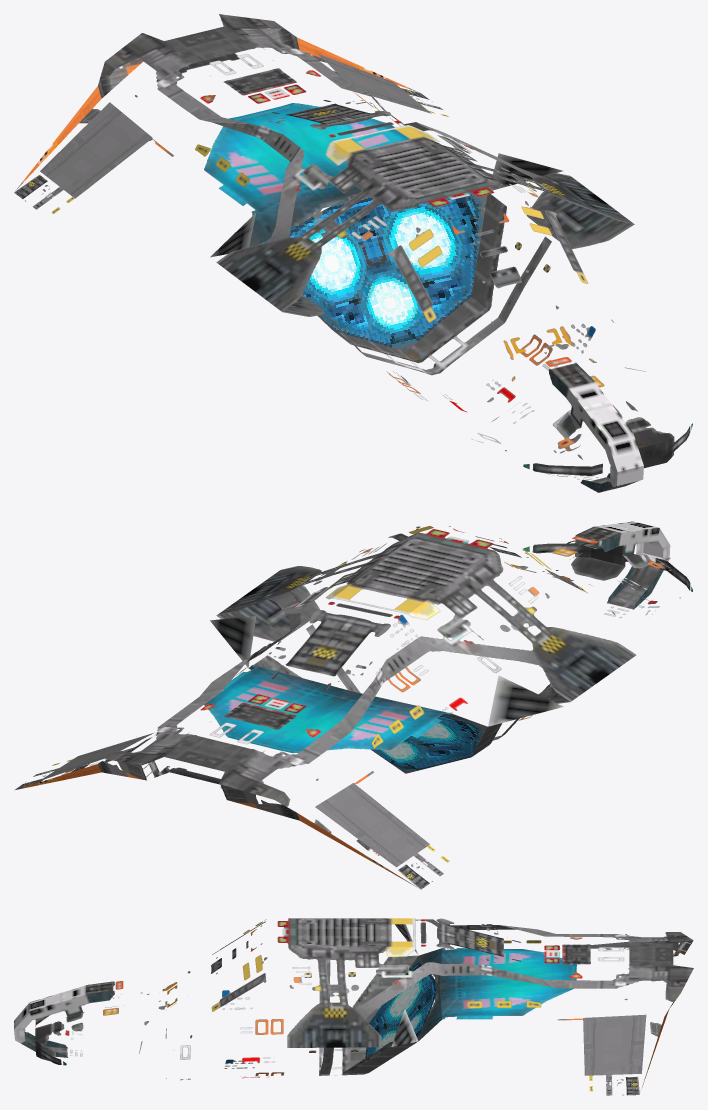
The picture shows the model from 3 angles, top to bottom: view 1: azimuth 30°, elevation 25°; view 2: azimuth 150°, elevation 25°; view 3: azimuth 270°, elevation 25°; orthographic projection. The views are drawn at different scales.
Visible parts, largest first — view 1: frontUV, burnerUV, Badge0_MAT; view 2: frontUV, Badge0_MAT, burnerUV; view 3: frontUV, Badge0_MAT, burnerUV.
Part boxes in pixels (x1,y1,x2,y2): frontUV: (14, 14, 692, 492); burnerUV: (258, 192, 487, 351); Badge0_MAT: (40, 54, 431, 198); frontUV: (14, 521, 692, 889); Badge0_MAT: (40, 732, 429, 867); burnerUV: (249, 668, 487, 773); frontUV: (14, 918, 693, 1095); Badge0_MAT: (583, 941, 646, 1075); burnerUV: (365, 956, 439, 1057).
Size of the model in its own units: 11.7 by 5.34 by 23.03.
